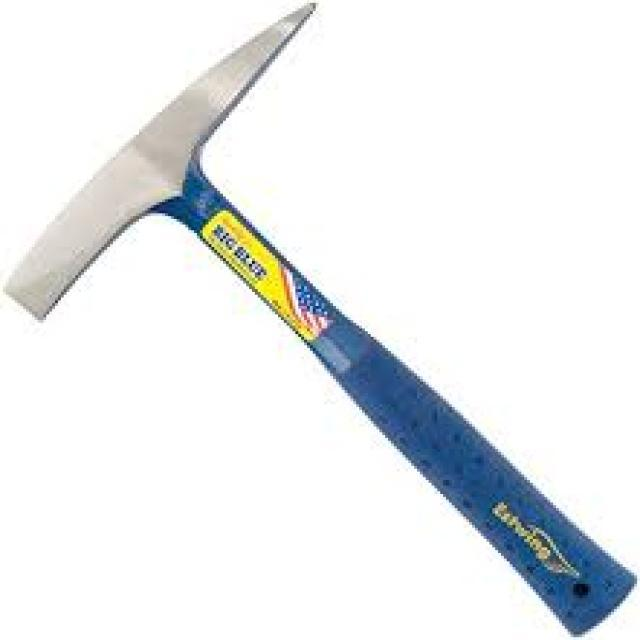Palu: (14, 26, 618, 631)
